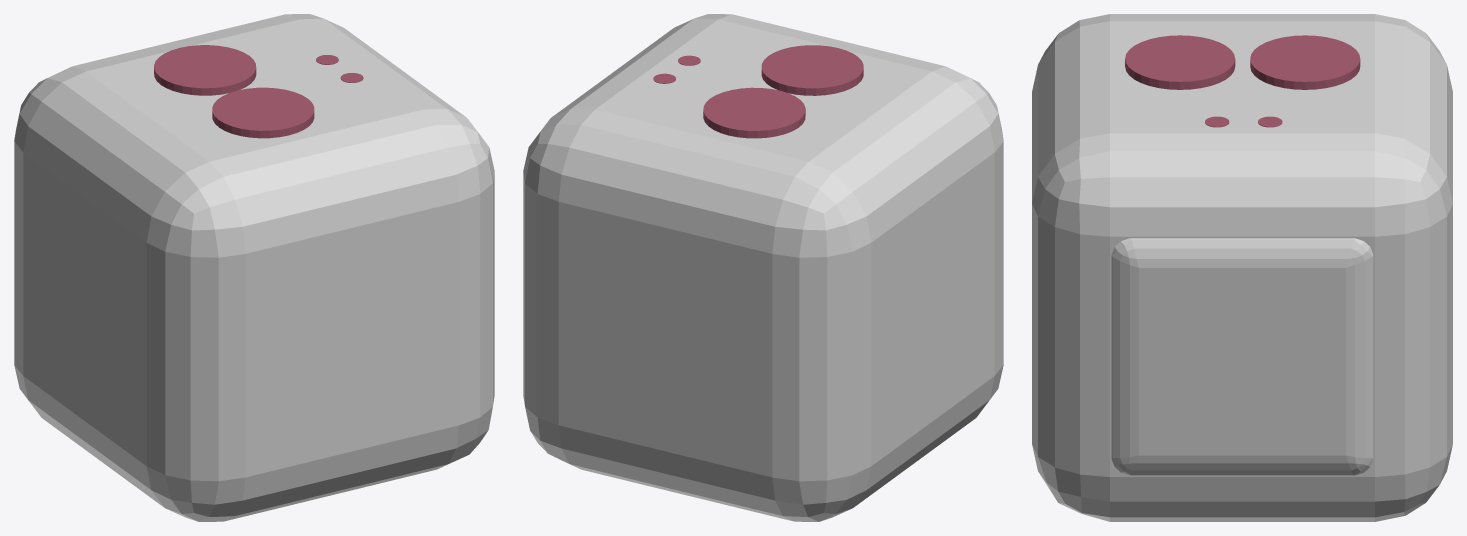
File: plate.fbx
3 views of the same model, side by side, from view 1: azimuth 30°, elevation 25°; view 2: azimuth 150°, elevation 25°; view 3: azimuth 270°, elevation 25° (orthographic). The views are drawn at different scales.
Parts seen in each view (by area): view 1: PlateMain, PlateMini, PlateMini2; view 2: PlateMain, PlateMini, PlateMini2; view 3: PlateMain, Door, PlateMini, PlateMini2.
Part boxes in pixels (bbox=[...]): PlateMain: bbox=[14, 14, 494, 521]; PlateMini: bbox=[212, 87, 314, 138]; PlateMini2: bbox=[154, 45, 256, 95]; PlateMain: bbox=[523, 14, 1003, 521]; PlateMini: bbox=[761, 45, 863, 95]; PlateMini2: bbox=[703, 87, 805, 138]; PlateMain: bbox=[1032, 14, 1452, 521]; Door: bbox=[1111, 238, 1373, 475]; PlateMini: bbox=[1125, 35, 1235, 89]; PlateMini2: bbox=[1250, 35, 1360, 89].
Bounding box in the file's own units: 215 × 213 × 209.
